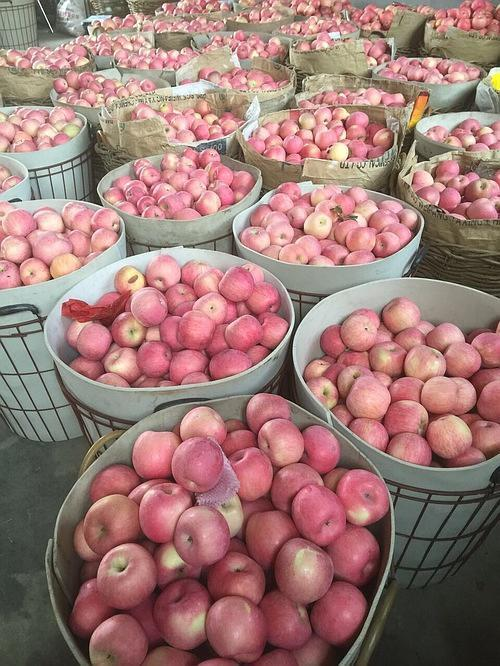apple: (271, 537, 334, 604), (207, 597, 270, 664), (96, 542, 158, 610), (153, 580, 215, 648), (171, 505, 231, 567), (290, 483, 346, 547), (83, 495, 141, 552), (89, 612, 149, 666), (139, 482, 192, 543), (336, 469, 391, 525), (172, 436, 225, 494), (228, 447, 275, 499), (257, 418, 304, 465), (302, 425, 339, 473)
